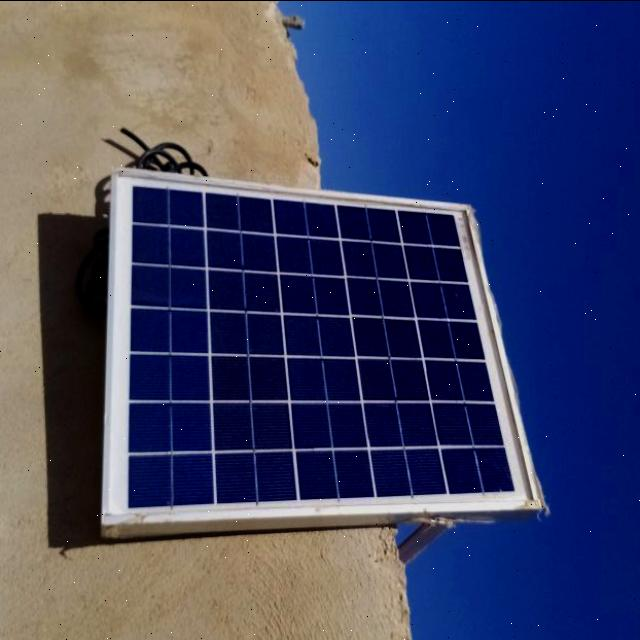Normal Solar Panel: (106, 168, 539, 520)
